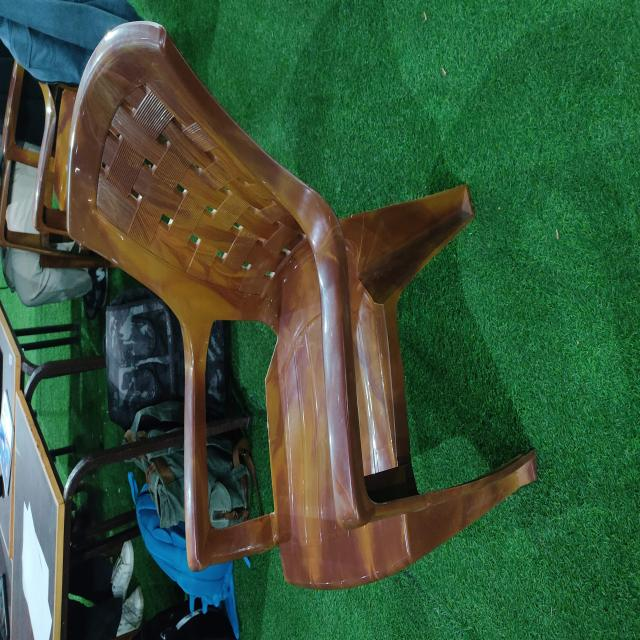Chair: (54, 19, 538, 592)
